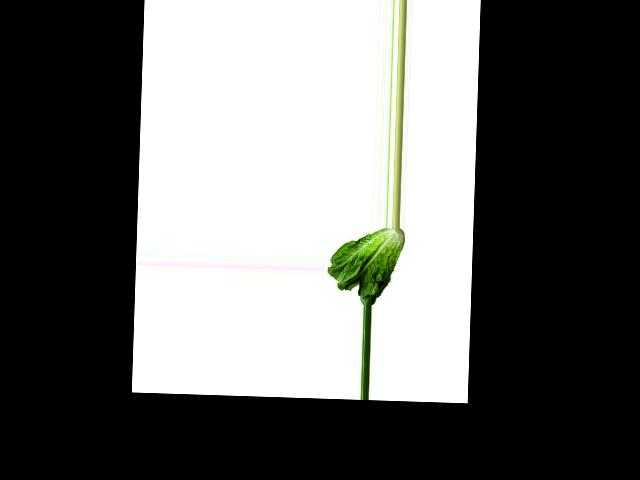lettuce: (325, 226, 405, 304)
